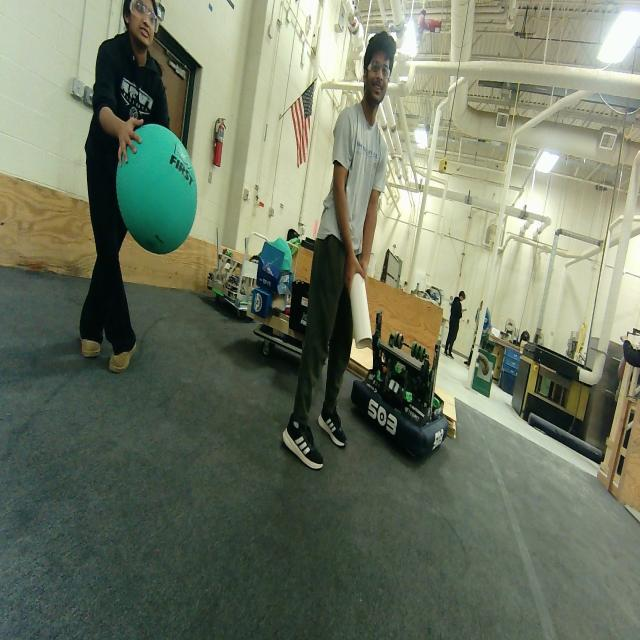algae: (119, 116, 197, 256)
coral: (348, 270, 373, 348)
